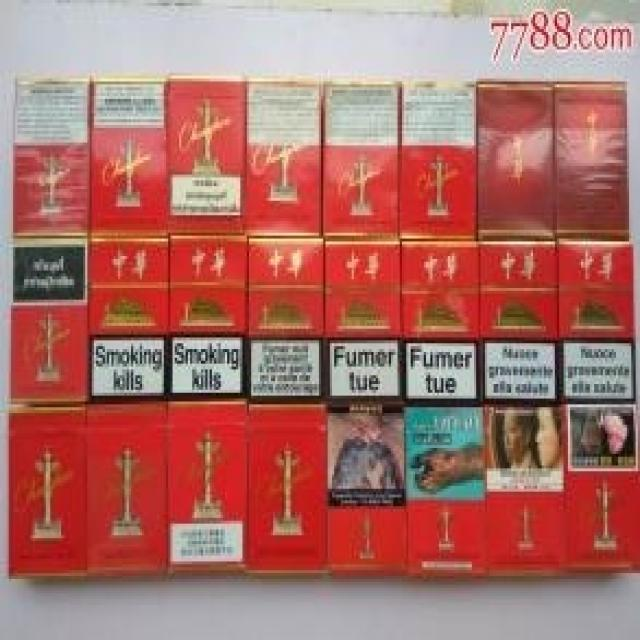box: (87, 236, 170, 404), (168, 401, 247, 576), (87, 401, 166, 576), (478, 239, 561, 404), (485, 407, 566, 576), (404, 407, 485, 576), (245, 404, 325, 573), (328, 404, 406, 576), (402, 241, 483, 404), (7, 239, 87, 404), (9, 407, 85, 579), (325, 241, 404, 404), (168, 236, 247, 399), (564, 404, 640, 573), (476, 81, 557, 239), (247, 236, 323, 401), (559, 239, 636, 401), (168, 76, 247, 233), (325, 79, 402, 239), (90, 79, 168, 236), (13, 79, 90, 236), (402, 81, 478, 239), (247, 79, 323, 236), (555, 81, 631, 236)
